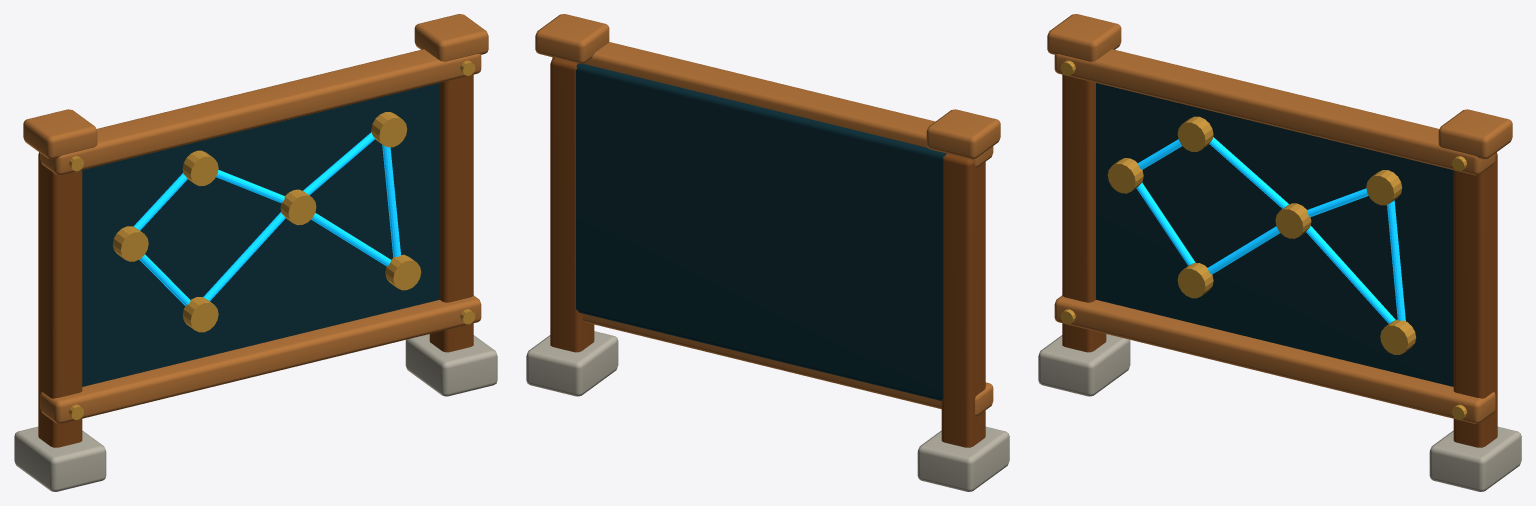
File: OBJ37_network_display.glb
3 renders of one model, left to right at view 1: azimuth 30°, elevation 25°; view 2: azimuth 150°, elevation 25°; view 3: azimuth 330°, elevation 25°, orthographic.
Visible parts, largest first — view 1: Slate panel, Horizontal oak rail.001, Horizontal oak rail, Timber post, Timber post.001, Board foot, Board foot.001, Post cap, Post cap.001, Graph vertex, Graph vertex.001, Graph vertex.004 (+10 smaller); view 2: Slate panel, Timber post, Horizontal oak rail.001, Timber post.001, Board foot.001, Board foot, Horizontal oak rail, Post cap, Post cap.001; view 3: Slate panel, Horizontal oak rail.001, Horizontal oak rail, Timber post.001, Timber post, Board foot.001, Board foot, Post cap.001, Post cap, Graph beam.005, Graph beam.006, Graph vertex.004 (+9 smaller).
Part boxes in pixels (bbox=[...]): Slate panel: bbox=[82, 83, 439, 386]; Horizontal oak rail.001: bbox=[40, 49, 481, 175]; Horizontal oak rail: bbox=[40, 295, 481, 423]; Timber post: bbox=[38, 152, 82, 447]; Timber post.001: bbox=[429, 74, 473, 352]; Board foot: bbox=[14, 426, 106, 491]; Board foot.001: bbox=[405, 334, 497, 396]; Post cap: bbox=[23, 109, 97, 159]; Post cap.001: bbox=[414, 14, 488, 61]; Graph vertex: bbox=[112, 226, 148, 261]; Graph vertex.001: bbox=[182, 150, 218, 186]; Graph vertex.004: bbox=[371, 112, 407, 147]; Slate panel: bbox=[576, 63, 946, 400]; Timber post: bbox=[941, 153, 985, 447]; Horizontal oak rail.001: bbox=[552, 42, 993, 167]; Timber post.001: bbox=[550, 58, 594, 352]; Board foot.001: bbox=[526, 331, 618, 396]; Board foot: bbox=[917, 426, 1009, 491]; Horizontal oak rail: bbox=[583, 313, 993, 416]; Post cap: bbox=[926, 109, 1000, 159]; Post cap.001: bbox=[535, 14, 609, 63]; Slate panel: bbox=[1096, 83, 1453, 386]; Horizontal oak rail.001: bbox=[1054, 49, 1495, 175]; Horizontal oak rail: bbox=[1054, 295, 1495, 423]; Timber post.001: bbox=[1453, 152, 1497, 447]; Timber post: bbox=[1062, 74, 1106, 352]; Board foot.001: bbox=[1429, 426, 1521, 491]; Board foot: bbox=[1038, 334, 1130, 396]; Post cap.001: bbox=[1438, 109, 1512, 159]; Post cap: bbox=[1047, 14, 1121, 61]; Graph beam.005: bbox=[1306, 226, 1395, 323]; Graph beam.006: bbox=[1387, 200, 1405, 321]; Graph vertex.004: bbox=[1366, 170, 1402, 205].
Size of the model in its own units: 3.2 by 2.4 by 0.5.
